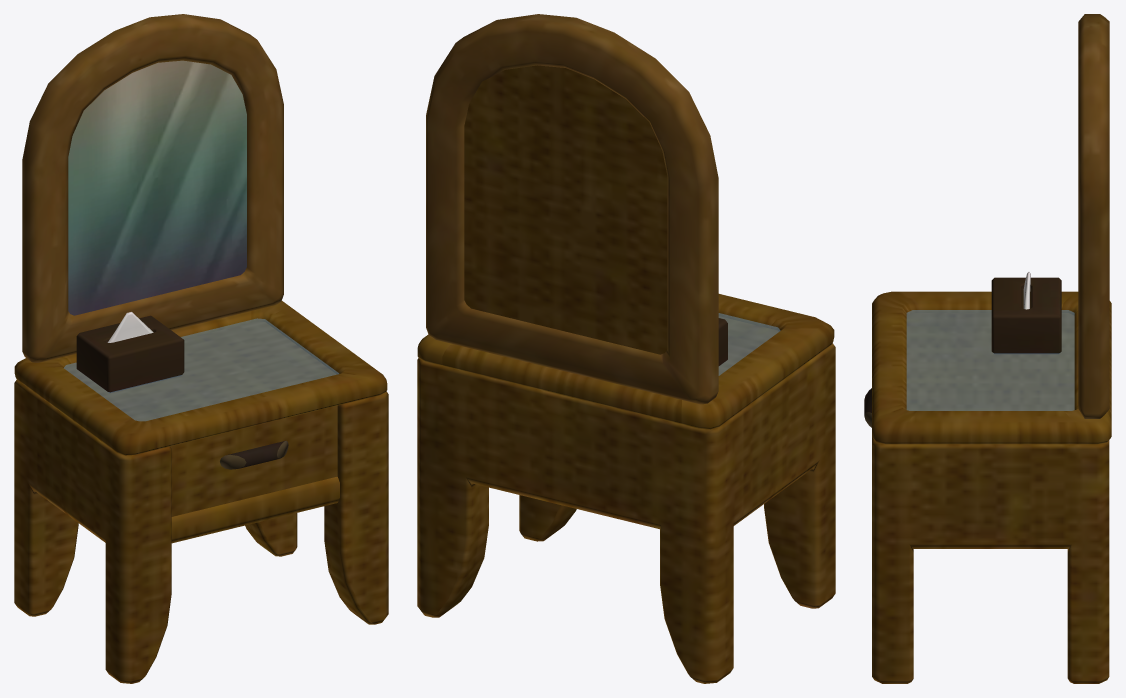
3 renders of one model, left to right at view 1: azimuth 30°, elevation 25°; view 2: azimuth 150°, elevation 25°; view 3: azimuth 270°, elevation 25°, orthographic. The views are drawn at different scales.
Size of the model in its own units: 7.53 by 14.92 by 5.71.
Materials: 3 (2 with a texture image).
